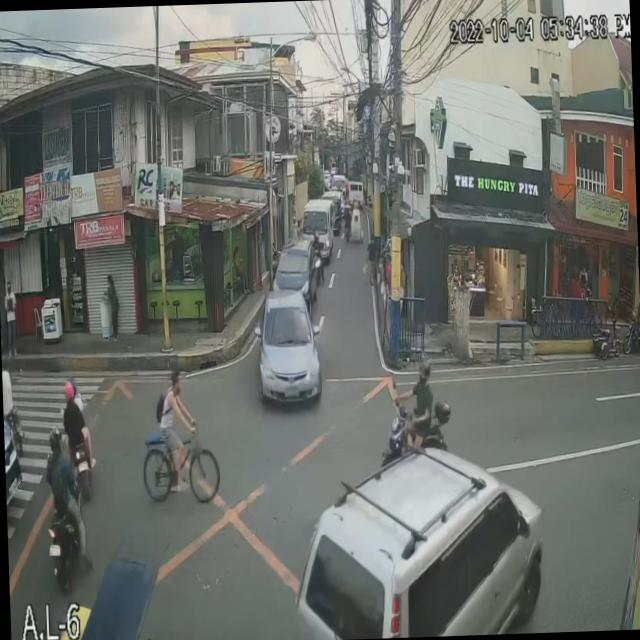half: (46, 426, 64, 456), (62, 378, 76, 406)
invalid: (416, 358, 432, 382)
